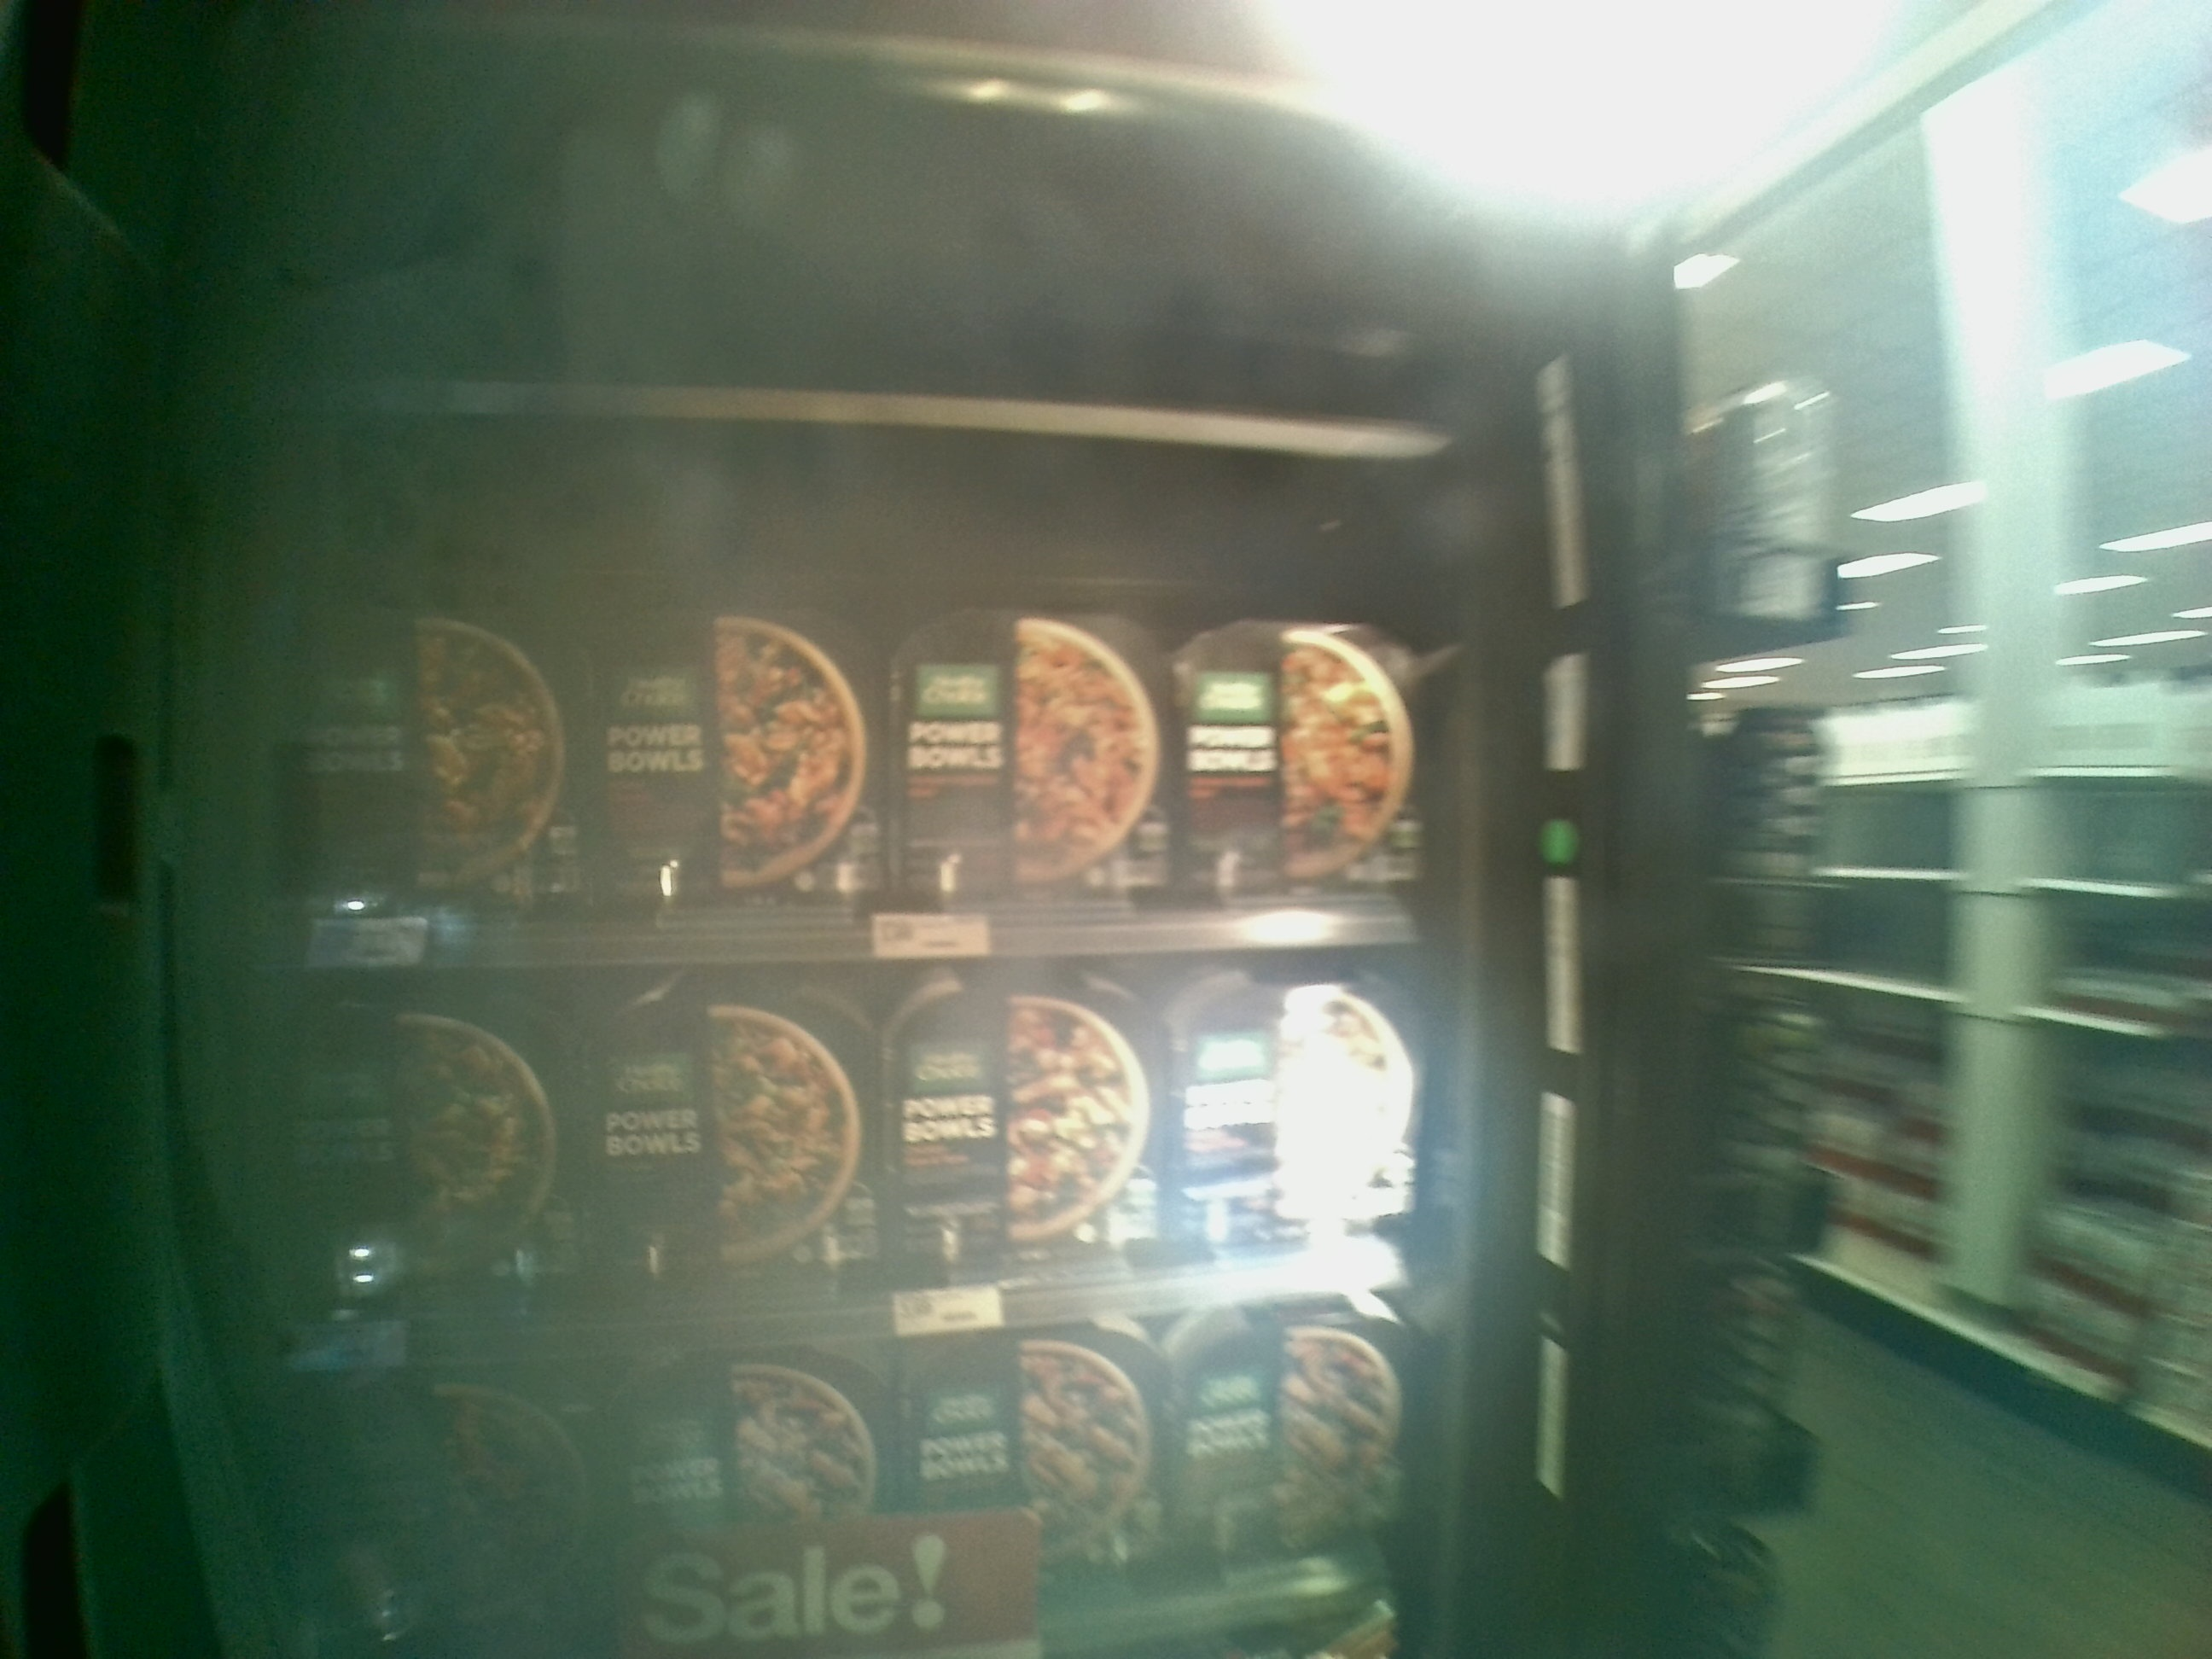shelf: (251, 385, 1447, 964), (260, 950, 1505, 1344)
